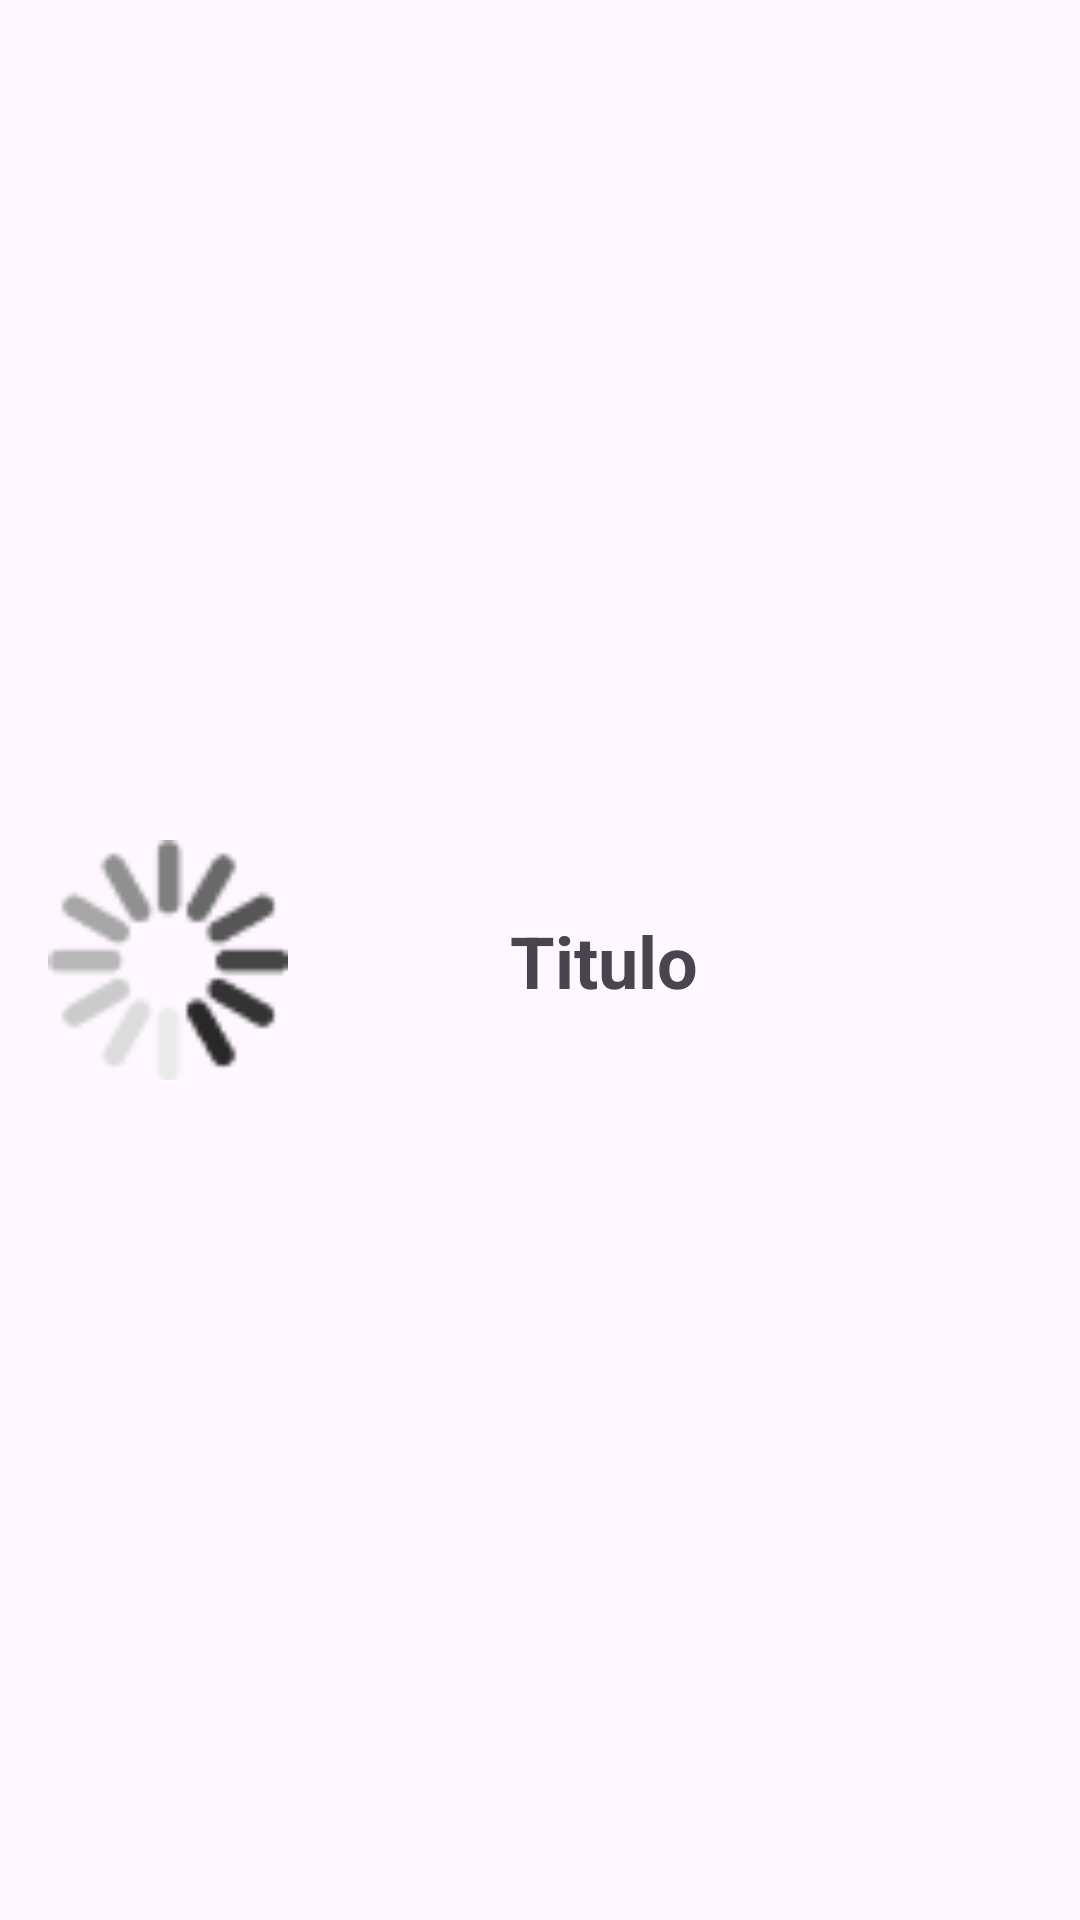

Screen size 1080 × 1920. Icon name, then its center in pixels as (x,y):
loading: (168,954)
